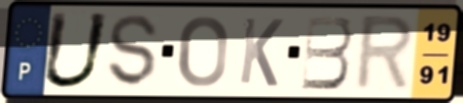B: (299, 13, 355, 92)
K: (236, 15, 286, 90)
O: (176, 13, 230, 90)
R: (351, 12, 418, 94)
S: (107, 13, 161, 90)
U: (37, 9, 114, 92)
